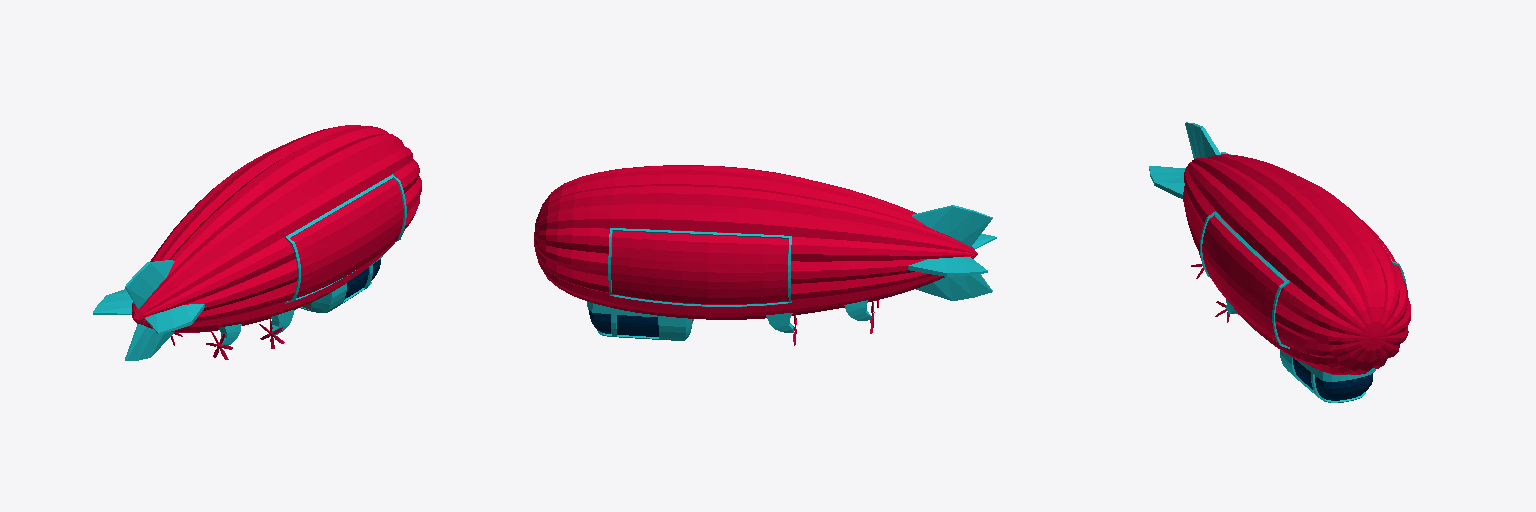
Rendered from Low-Poly_airship.obj.
The picture shows the model from 3 angles: view 1: azimuth 30°, elevation 25°; view 2: azimuth 150°, elevation 25°; view 3: azimuth 270°, elevation 25°; orthographic projection.
Parts seen in each view (by area): view 1: baloon_Untitled, cube2_Untitled.010, wings_Untitled.004, cabin_1_Untitled.006, cube_Untitled.009, sper_Untitled.001; view 2: baloon_Untitled, cube2_Untitled.010, wings_Untitled.004, cabin_1_Untitled.006, cube1_Untitled.003, sper_Untitled.001; view 3: baloon_Untitled, cube2_Untitled.010, cabin_1_Untitled.006, wings_Untitled.004, cube_Untitled.009.
Boxes of the visible parts, box(x1,y1,x2,y2) form: baloon_Untitled: box(132, 125, 421, 332); cube2_Untitled.010: box(290, 179, 403, 300); wings_Untitled.004: box(93, 260, 204, 360); cabin_1_Untitled.006: box(300, 256, 382, 312); cube_Untitled.009: box(285, 174, 406, 303); sper_Untitled.001: box(219, 310, 294, 345); baloon_Untitled: box(534, 165, 977, 319); cube2_Untitled.010: box(611, 231, 788, 304); wings_Untitled.004: box(908, 205, 996, 300); cabin_1_Untitled.006: box(587, 302, 693, 340); cube1_Untitled.003: box(608, 228, 791, 306); sper_Untitled.001: box(766, 300, 870, 332); baloon_Untitled: box(1183, 154, 1410, 374); cube2_Untitled.010: box(1202, 215, 1402, 344); cabin_1_Untitled.006: box(1280, 350, 1375, 402); wings_Untitled.004: box(1149, 122, 1230, 198); cube_Untitled.009: box(1200, 211, 1289, 348).
Size of the model in its own units: 7.24 by 2.87 by 4.28.